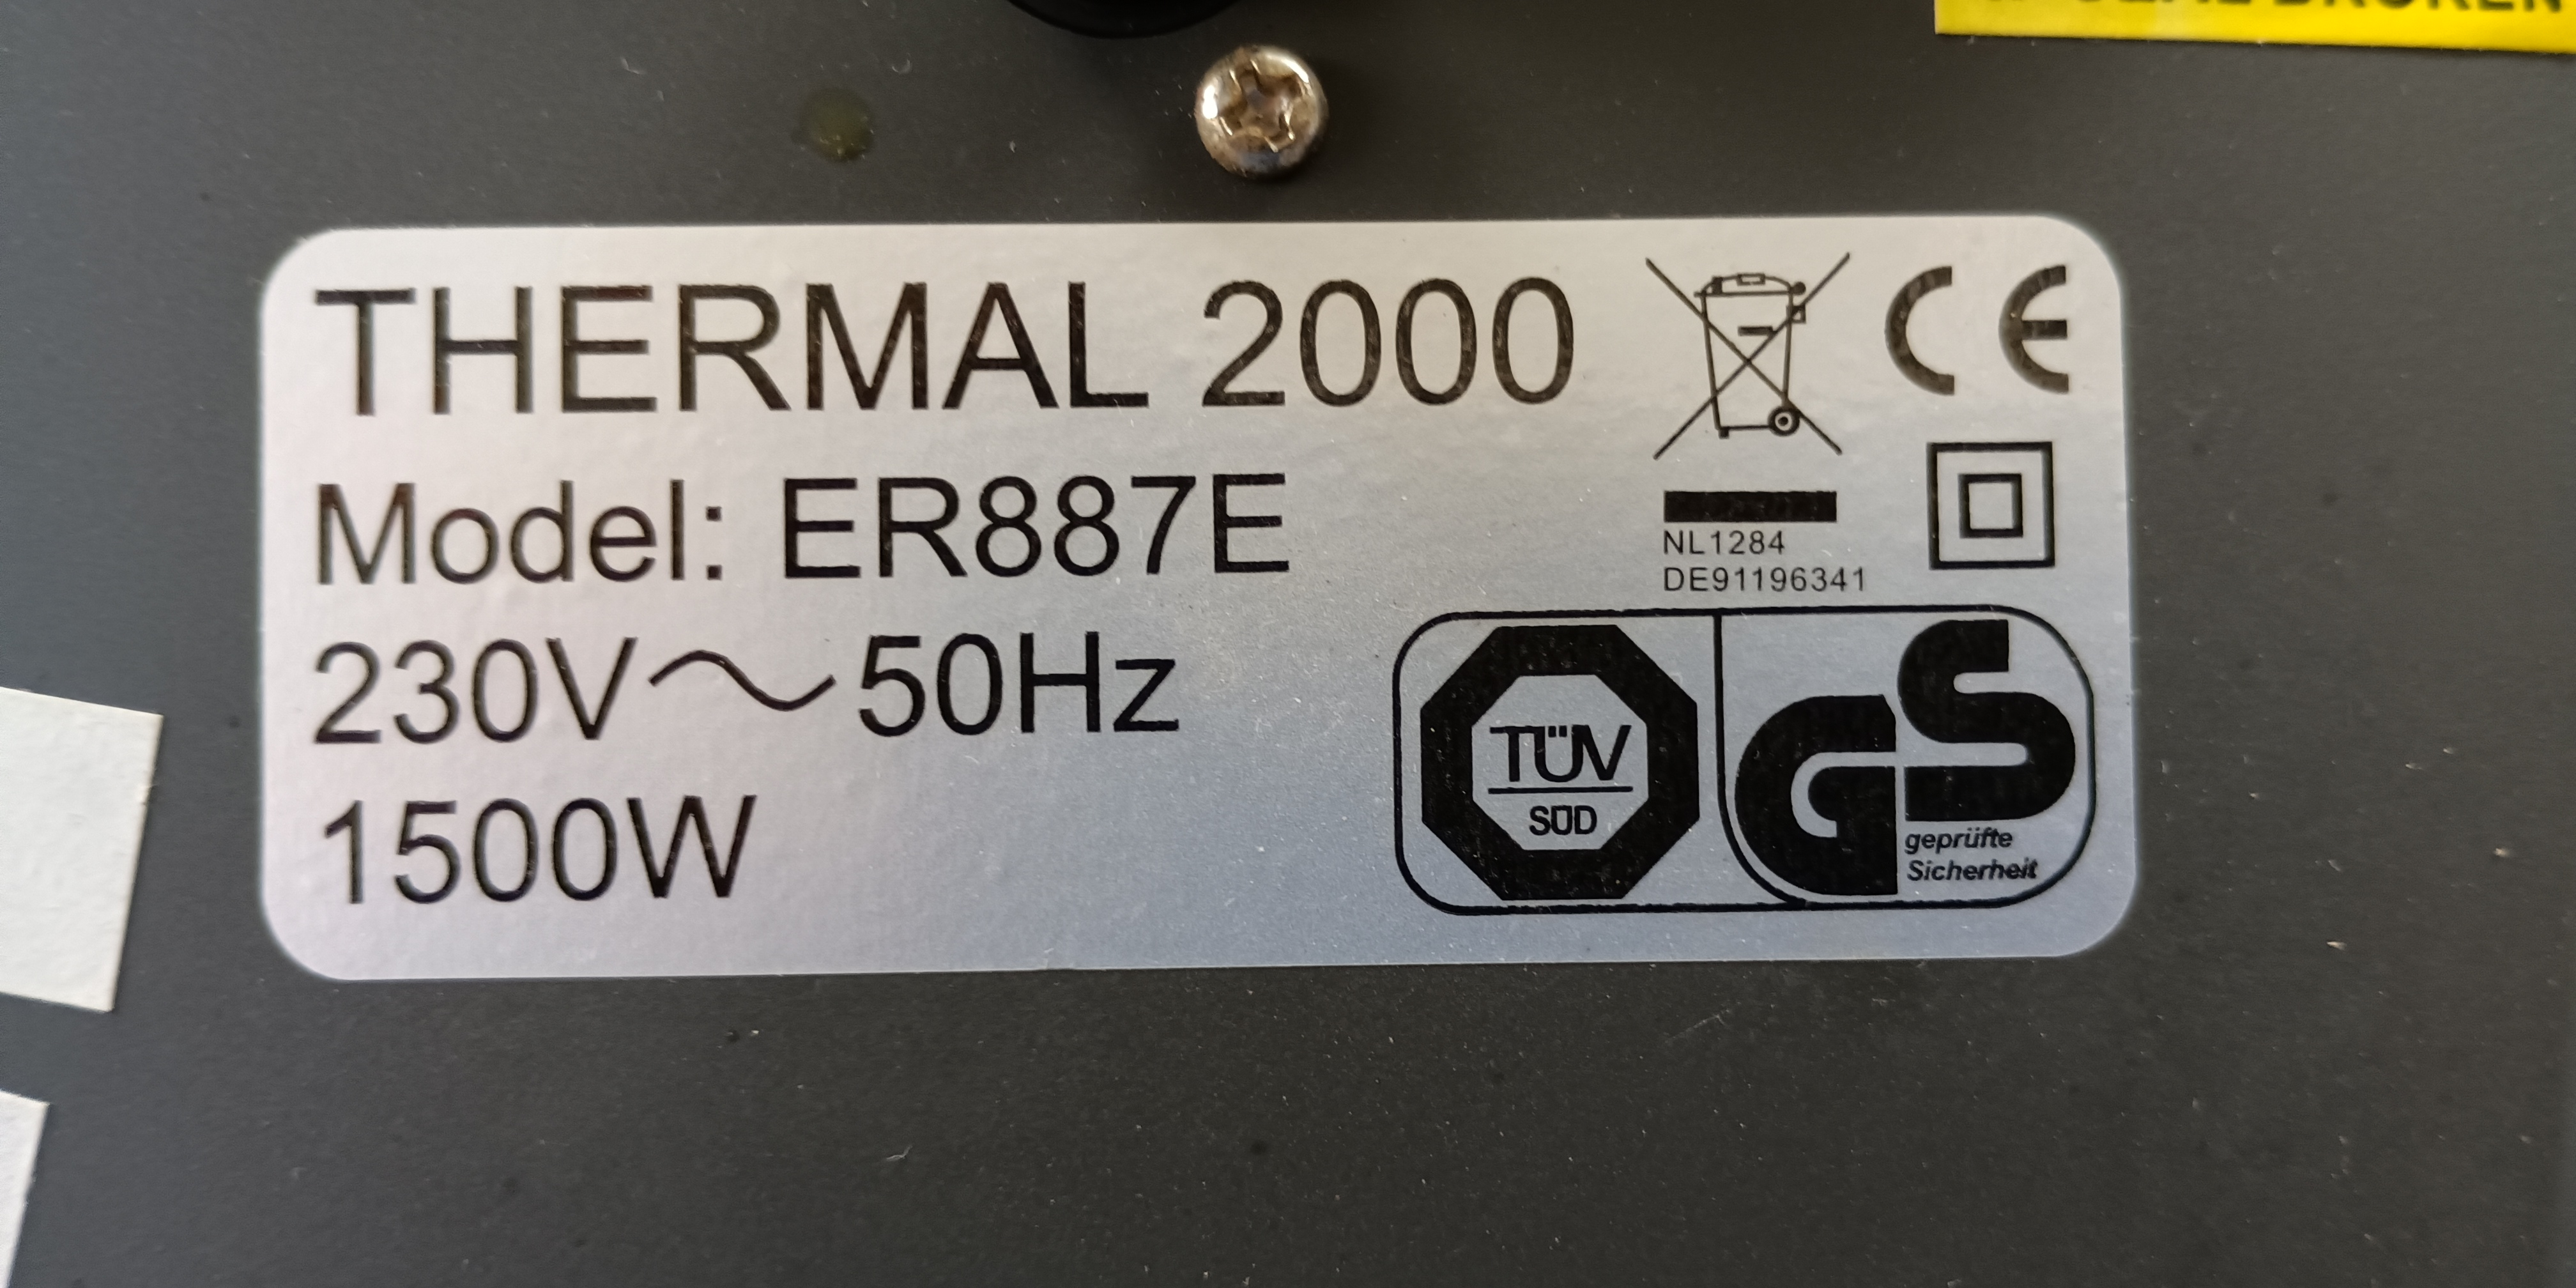p1: (299, 269, 1600, 419)
p2: (756, 444, 1349, 600)
p3: (286, 767, 777, 923)
